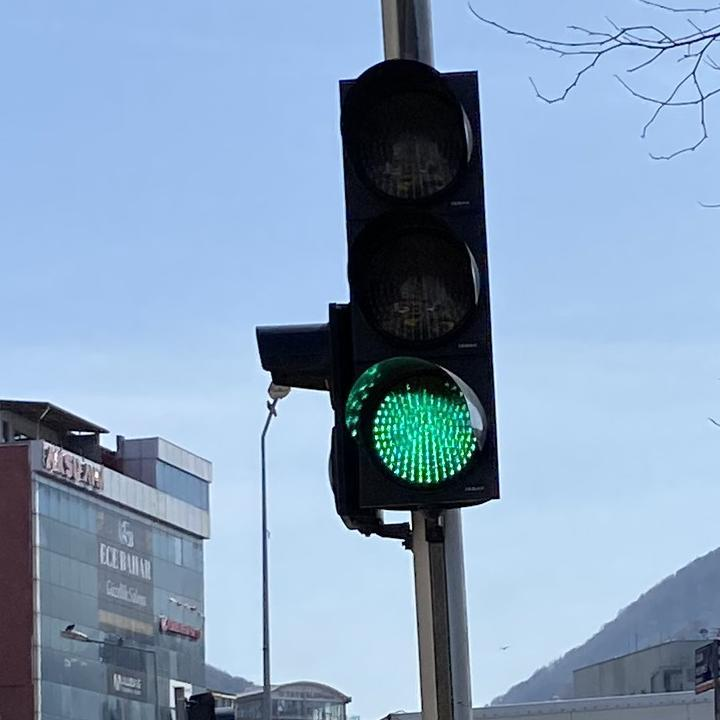green: (338, 59, 502, 512)
